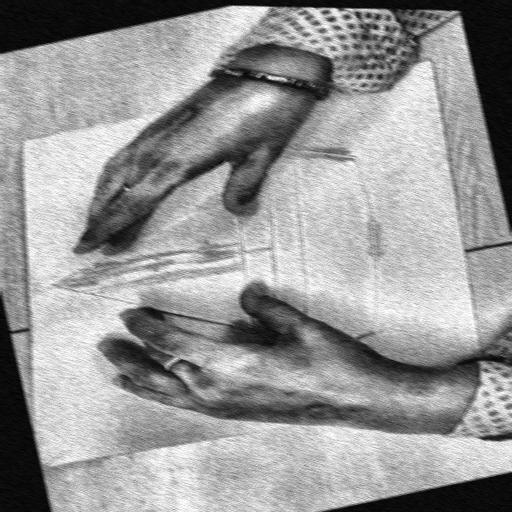boat: (4, 117, 410, 413)
bottom_left: (419, 53, 438, 66)
bottom_right: (472, 389, 488, 400)
top_left: (18, 135, 32, 145)
